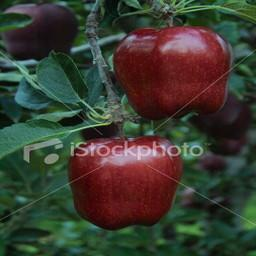apple: (115, 27, 235, 122), (68, 136, 182, 231)
